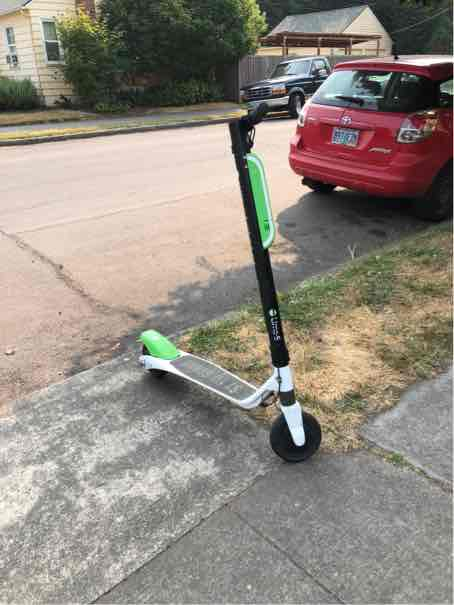scooter: (124, 99, 320, 475)
